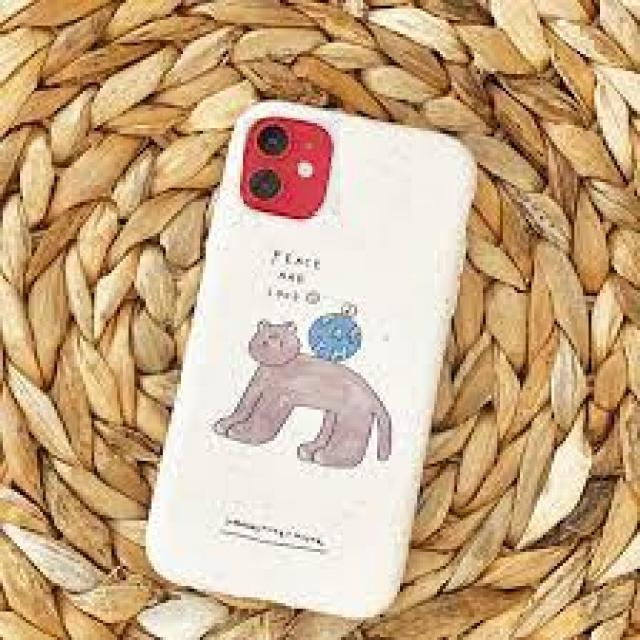phone: (140, 97, 478, 621)
